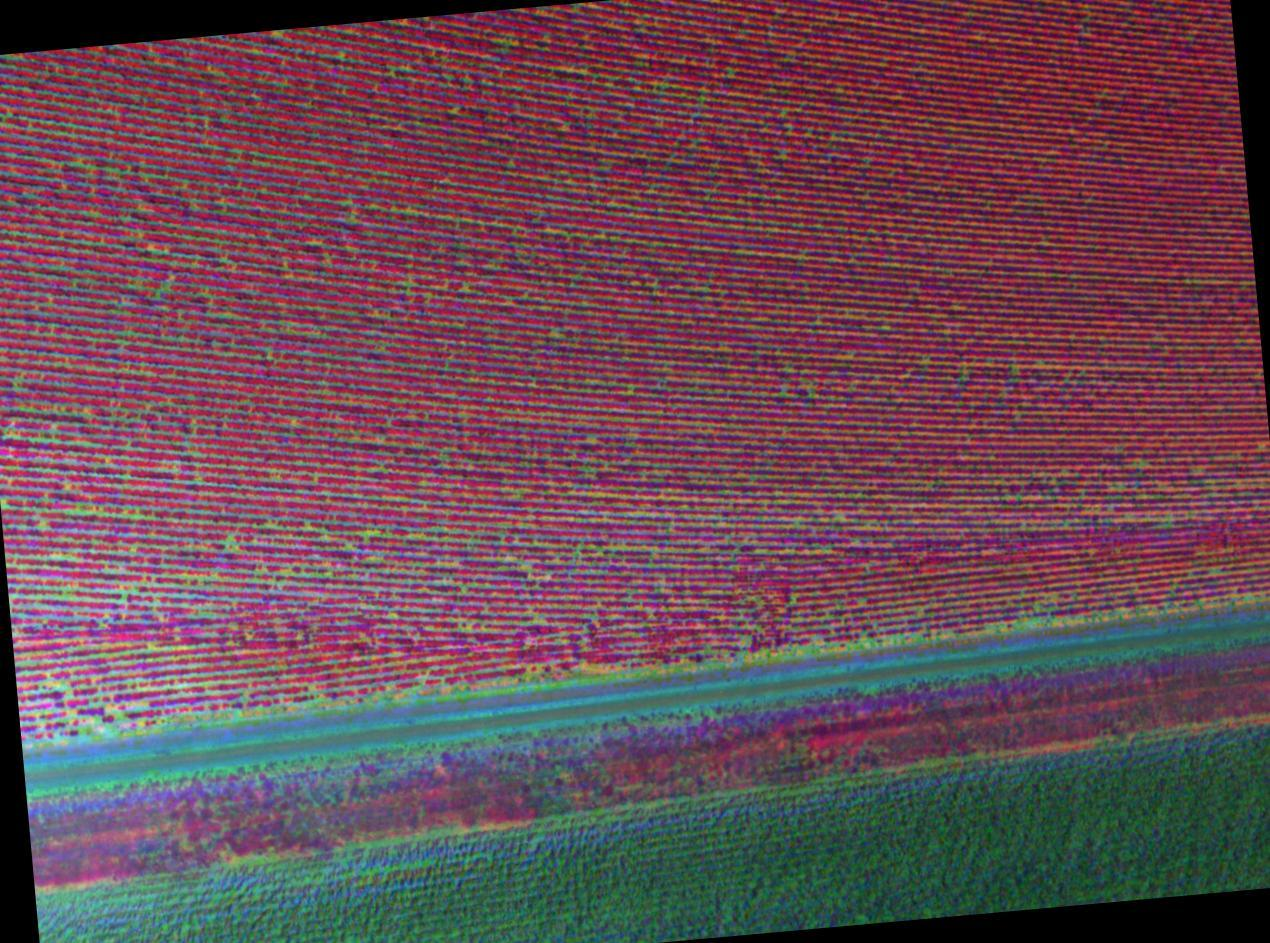dc: (132, 704, 139, 710), (91, 720, 97, 726), (1127, 517, 1130, 521), (1211, 572, 1215, 575), (1247, 596, 1251, 599), (682, 507, 685, 510), (1166, 518, 1169, 520), (578, 547, 580, 549)
